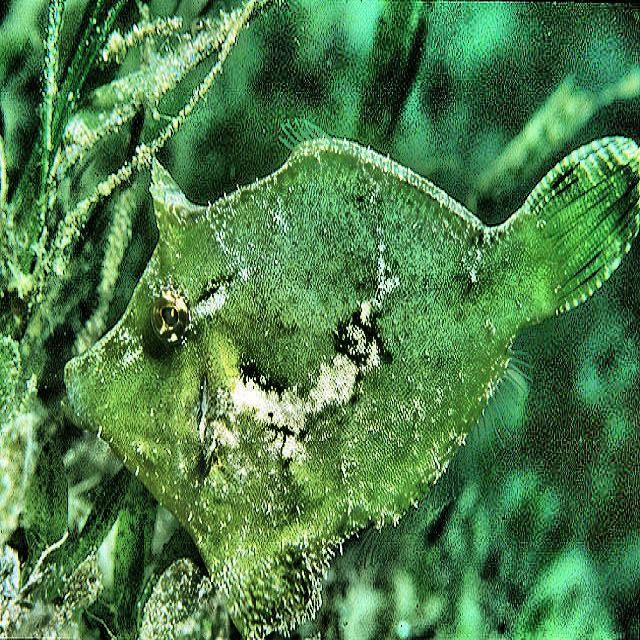fish: (65, 135, 640, 639)
